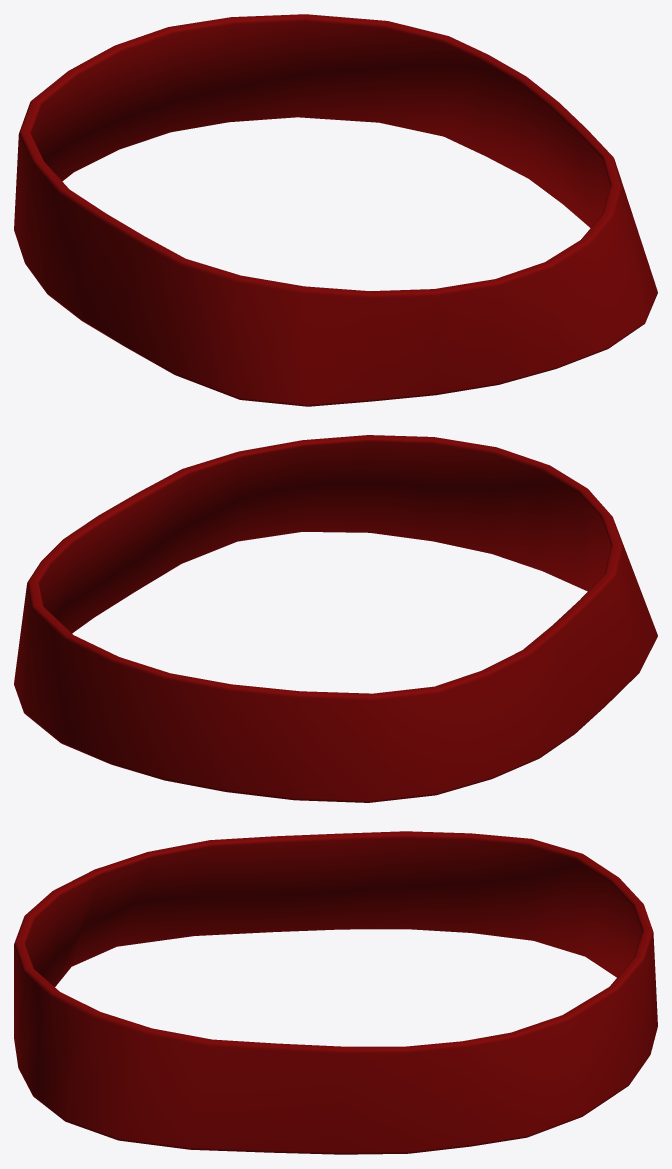
File: Bandaj.FBX
The picture shows the model from 3 angles, top to bottom: view 1: azimuth 30°, elevation 25°; view 2: azimuth 150°, elevation 25°; view 3: azimuth 270°, elevation 25°; orthographic projection. The views are drawn at different scales.
Visible parts, largest first — view 1: Bandaj; view 2: Bandaj; view 3: Bandaj.
Part boxes in pixels (box(x1,y1,x2,y2)): Bandaj: box(14, 14, 657, 406); Bandaj: box(14, 435, 657, 802); Bandaj: box(14, 831, 657, 1154).
Bounding box in the file's own units: 24.99 × 5.67 × 29.47.
